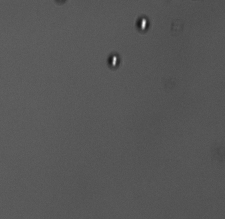Living Cell: (134, 14, 152, 33), (105, 51, 122, 69)
